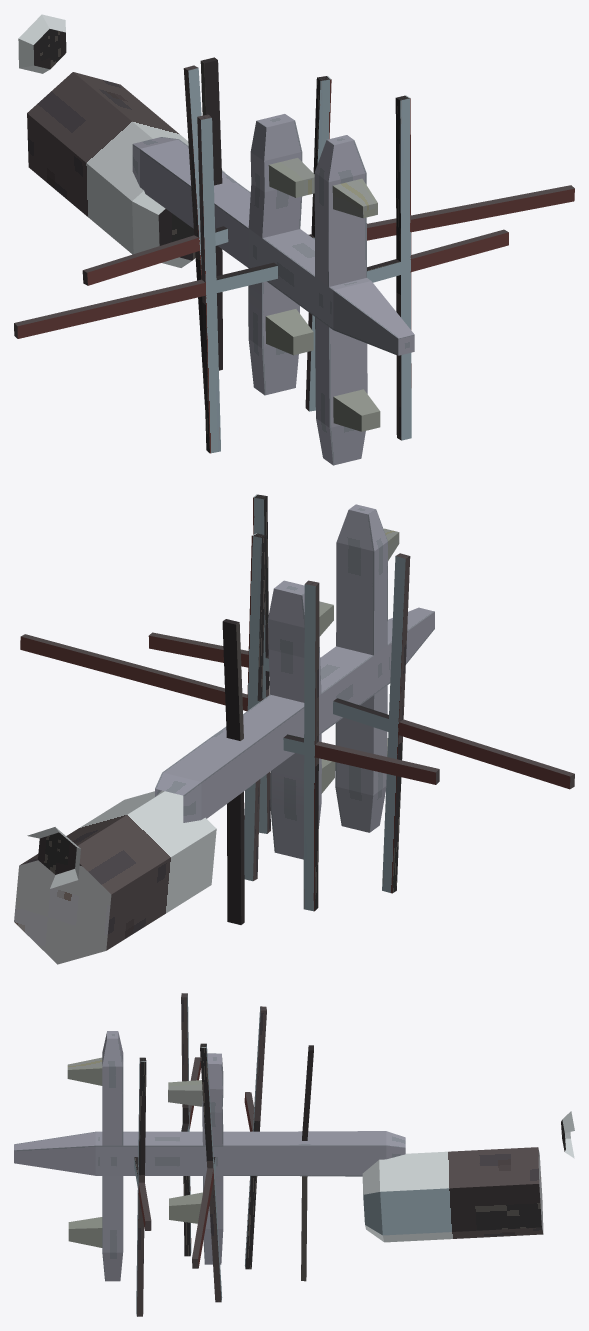
File: 032_tolppaWired_004.gltf
3 views of the same model, one above another, from view 1: azimuth 30°, elevation 25°; view 2: azimuth 150°, elevation 25°; view 3: azimuth 270°, elevation 25° (orthographic). The views are drawn at different scales.
Visible parts, largest first — view 1: tolppaWired_004; view 2: tolppaWired_004; view 3: tolppaWired_004.
Boxes of the visible parts, box(x1,y1,x2,y2) form: tolppaWired_004: box(14, 14, 574, 465); tolppaWired_004: box(14, 494, 574, 964); tolppaWired_004: box(14, 993, 574, 1316).
Bounding box in the file's own units: 9.19 × 5.41 × 10.65.
1 material, 1 textured.
